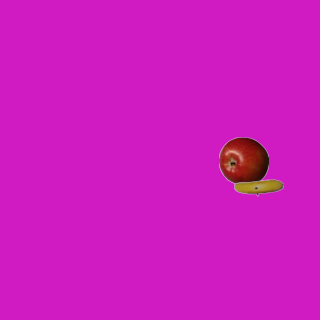Apple Braeburn: (218, 136, 268, 186)
Banana: (233, 162, 283, 212)
